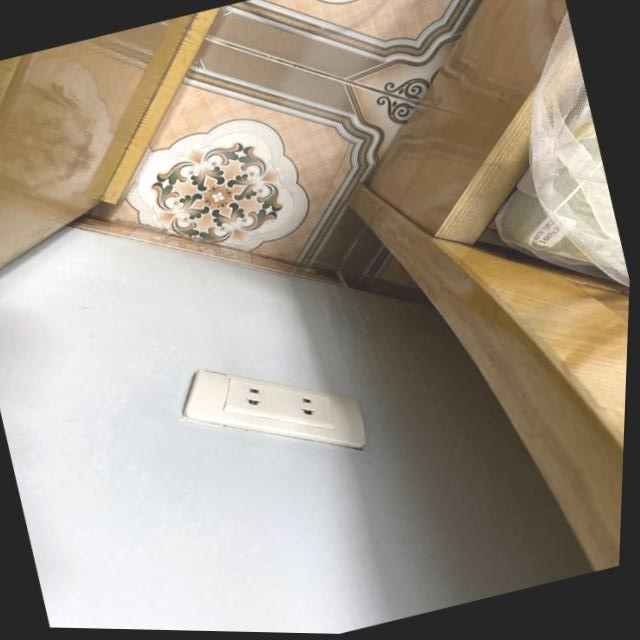outlet: (171, 329, 375, 492)
